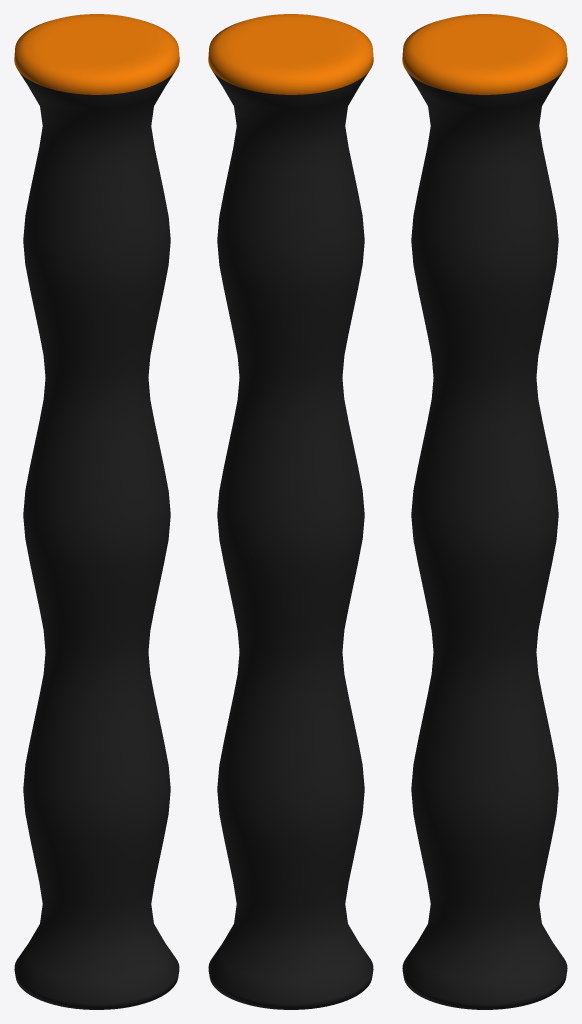
File: Stand.fbx
3 views of the same model, side by side, from view 1: azimuth 30°, elevation 25°; view 2: azimuth 150°, elevation 25°; view 3: azimuth 270°, elevation 25° (orthographic).
Visible parts, largest first — view 1: Stand; view 2: Stand; view 3: Stand.
Boxes of the visible parts, x1=… form: Stand: x1=14, y1=14, x2=179, y2=1009; Stand: x1=208, y1=14, x2=373, y2=1009; Stand: x1=402, y1=14, x2=567, y2=1009.
Bounding box in the file's own units: 339 × 2114 × 339.
